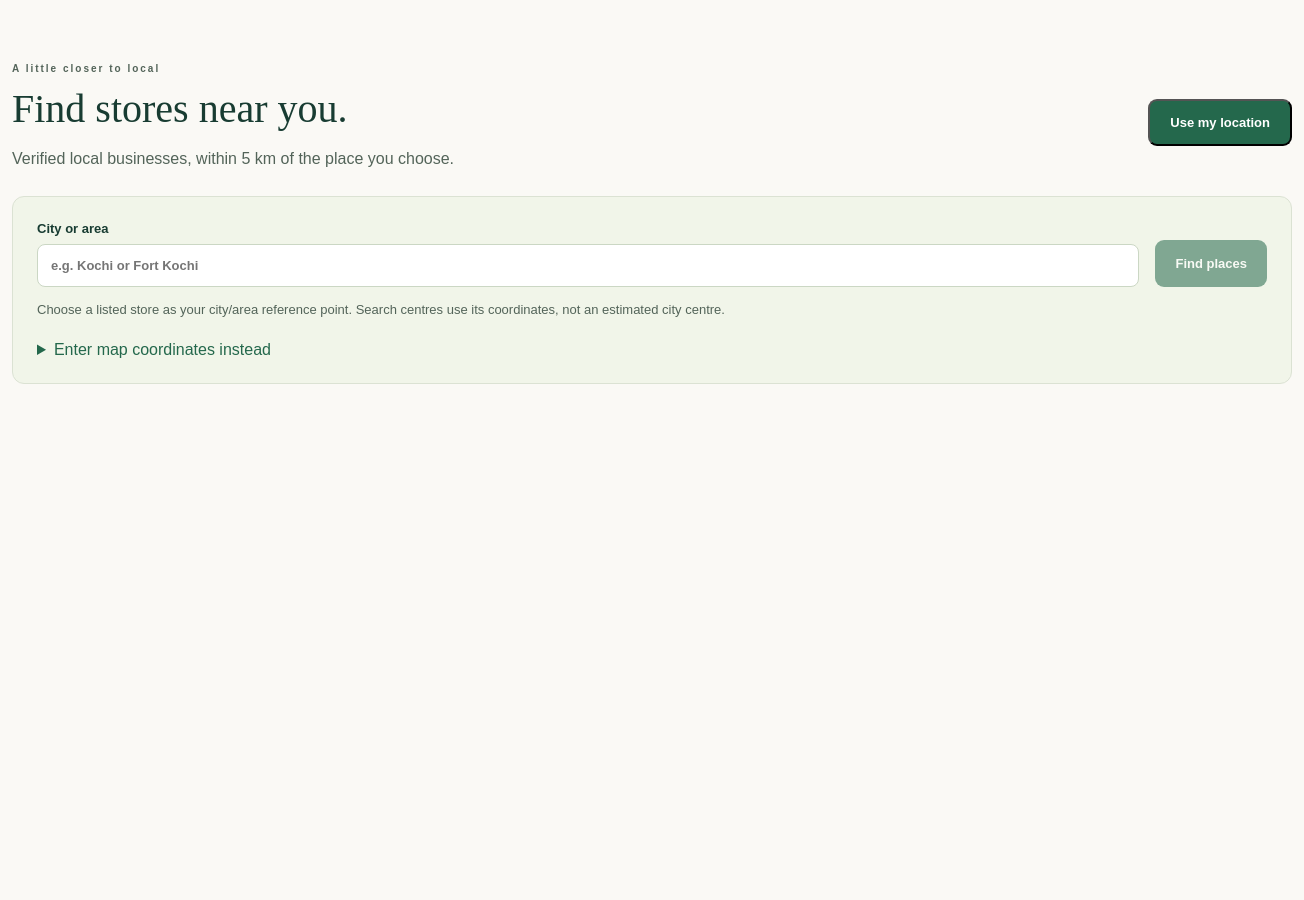
it: GPS success searches its coordinates and shows the centre
The image size is (1304, 900).
Click the button "Use my location" at (1220, 122), box x1=1148 y1=99 x2=1292 y2=146
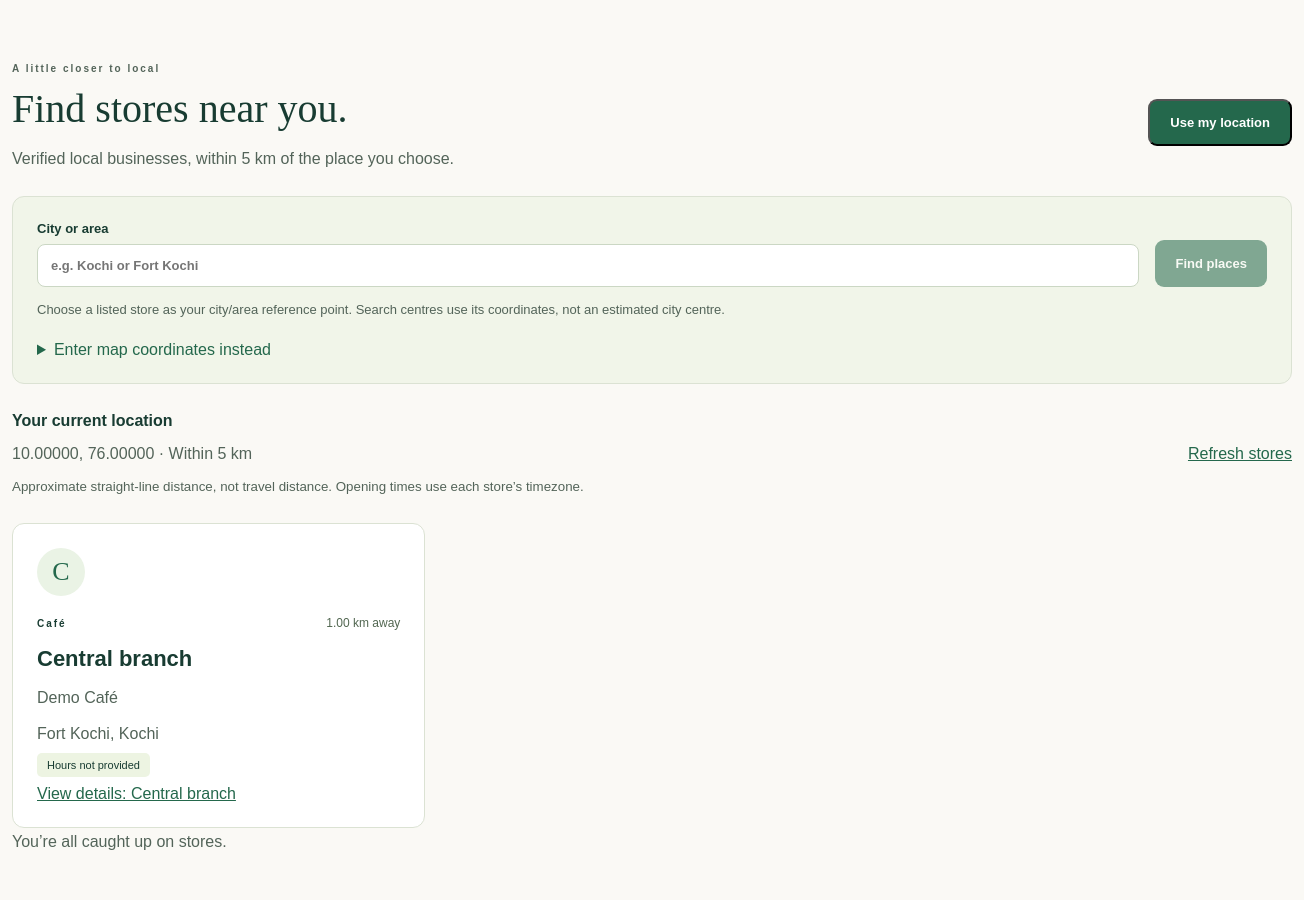
Expected: the text "Your current location" is shown, x1=12 y1=412 x2=173 y2=429
